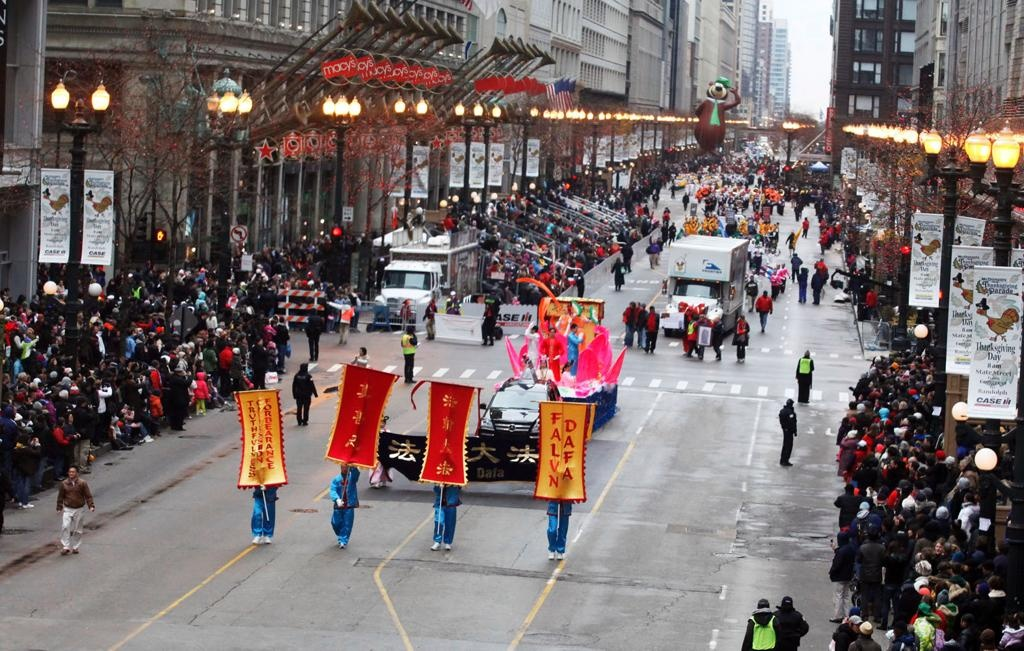human_face: (850, 620, 862, 632), (757, 612, 767, 622), (934, 543, 942, 555), (893, 626, 901, 636), (944, 563, 952, 573), (784, 600, 792, 608), (930, 619, 938, 627), (341, 464, 349, 472), (68, 468, 76, 476), (877, 498, 885, 506), (56, 315, 64, 323), (960, 616, 966, 626), (982, 565, 988, 575), (974, 582, 980, 590), (962, 563, 968, 571), (66, 414, 72, 422), (890, 460, 896, 468), (895, 516, 901, 524), (939, 534, 945, 542), (950, 532, 956, 540), (952, 546, 958, 554), (975, 536, 981, 544), (75, 372, 81, 380), (378, 420, 384, 426), (548, 329, 554, 335), (530, 326, 536, 332), (873, 419, 879, 425), (908, 462, 914, 468), (40, 403, 46, 409), (109, 362, 115, 368), (94, 322, 100, 328), (39, 370, 45, 376), (21, 372, 25, 380), (908, 528, 912, 536), (26, 397, 30, 404), (359, 349, 363, 355), (572, 326, 576, 332), (92, 326, 96, 332), (98, 362, 104, 366), (886, 436, 890, 442), (52, 359, 56, 365), (126, 407, 130, 413), (50, 420, 54, 425)
